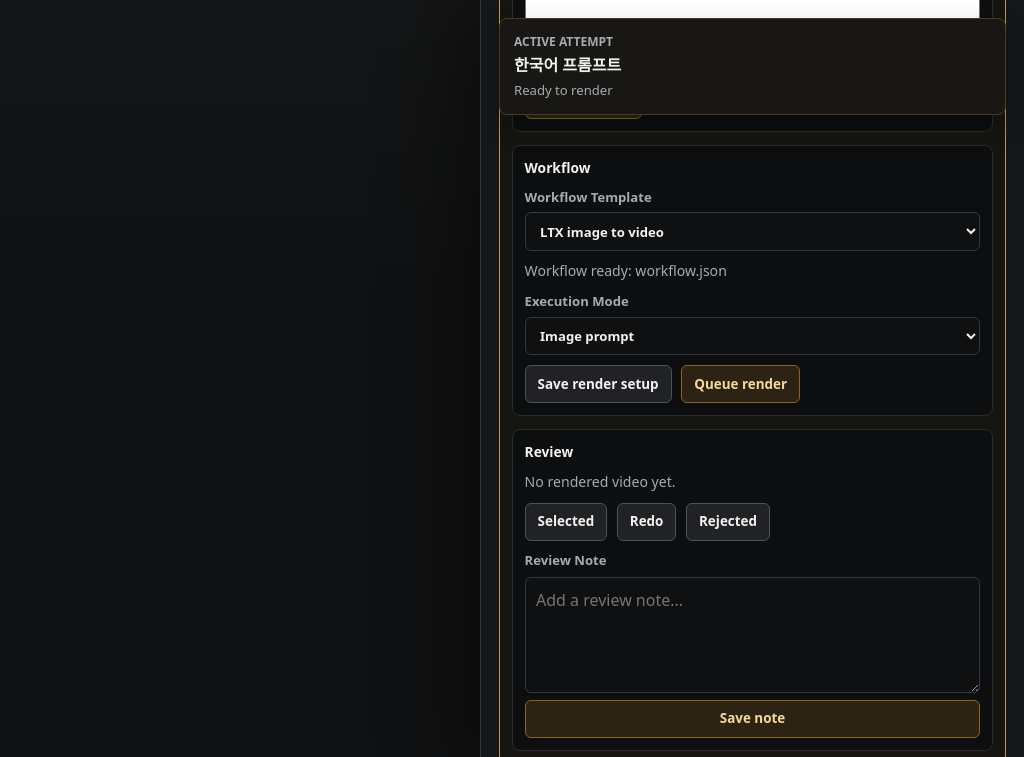
Test: ShotDrawer asset attempts › keeps render action inside the expanded attempt
(page scrolled)
Click the button with aria-label "Queue render for attempt attempt-1" at (741, 384), box [681, 366, 800, 403]
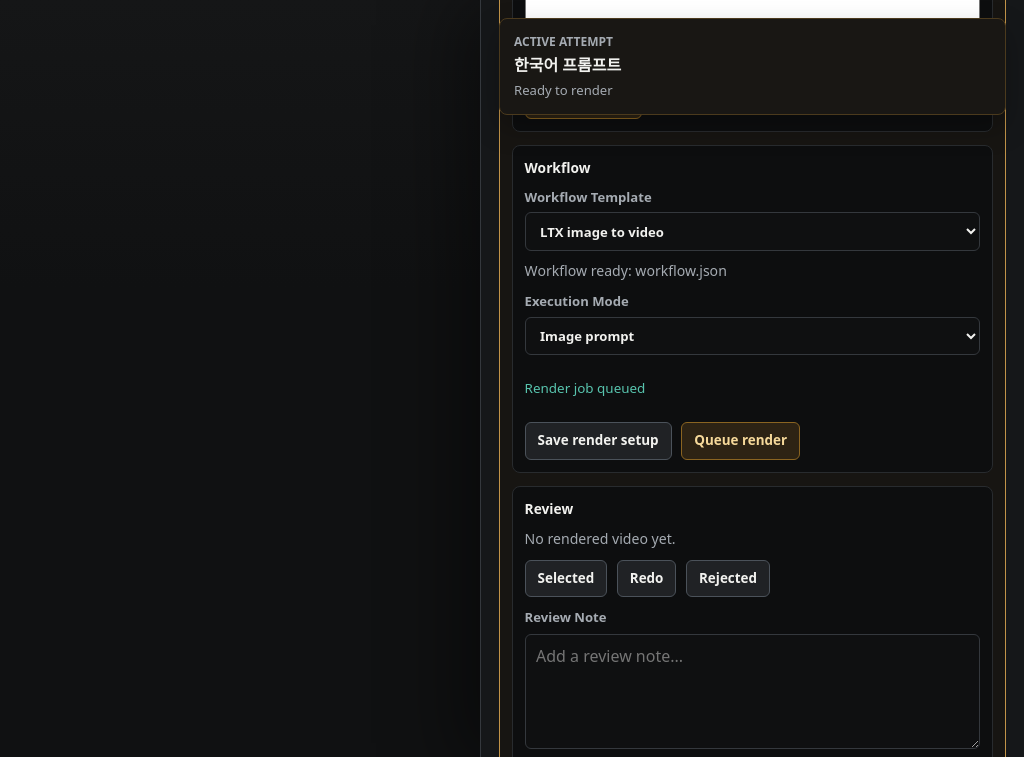
Check: the text "Render job queued" is shown, box [525, 379, 645, 397]
